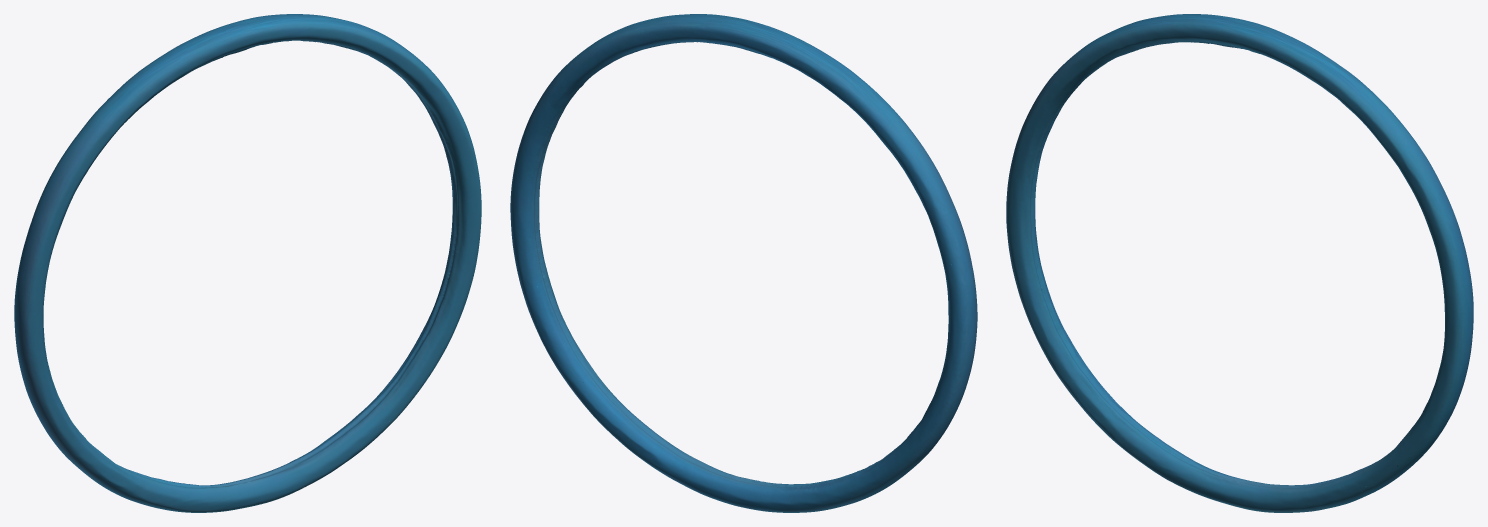
Rendered from bluering.glb.
The picture shows the model from 3 angles, left to right: view 1: azimuth 30°, elevation 25°; view 2: azimuth 150°, elevation 25°; view 3: azimuth 330°, elevation 25°; orthographic projection.
Size of the model in its own units: 2 by 2 by 0.1258.
1 material, 1 textured.
